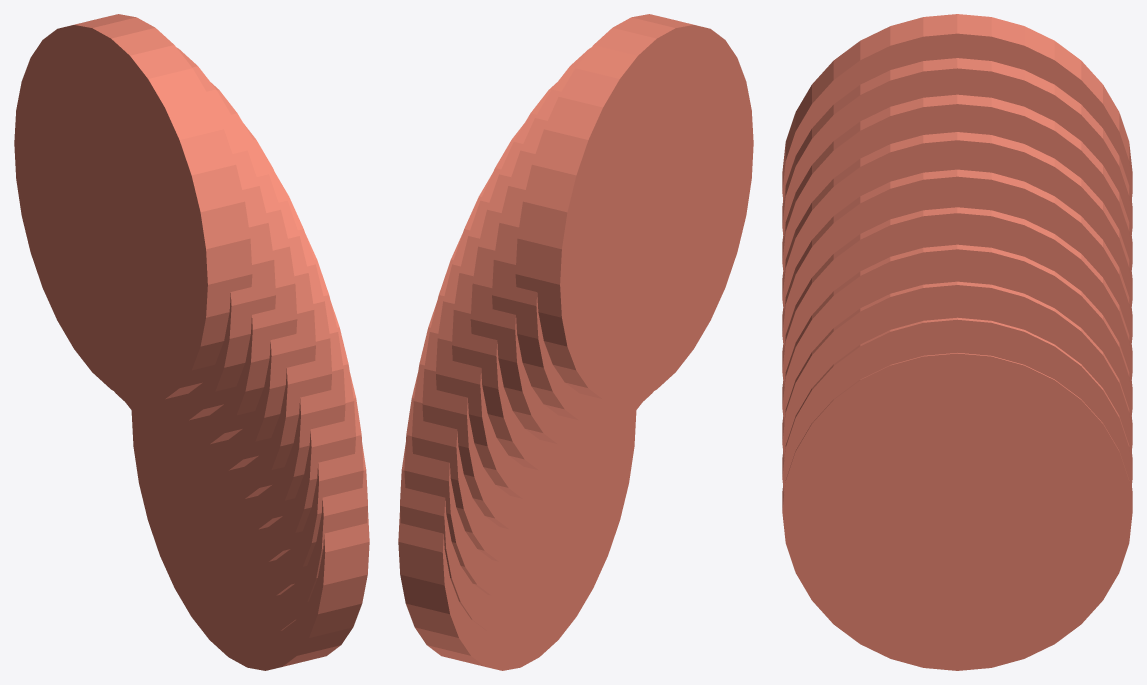
The model's file is SM_Fitting_Elbow_45.glb.
3 renders of one model, left to right at view 1: azimuth 30°, elevation 25°; view 2: azimuth 150°, elevation 25°; view 3: azimuth 270°, elevation 25°, orthographic. The views are drawn at different scales.
Parts seen in each view (by area): view 1: world; view 2: world; view 3: world.
Part boxes in pixels (x1,y1,x2,y2): world: (14,14,369,670); world: (398,14,753,670); world: (782,14,1132,670).
Size of the model in its own units: 0.0291 by 0.1112 by 0.0603.
